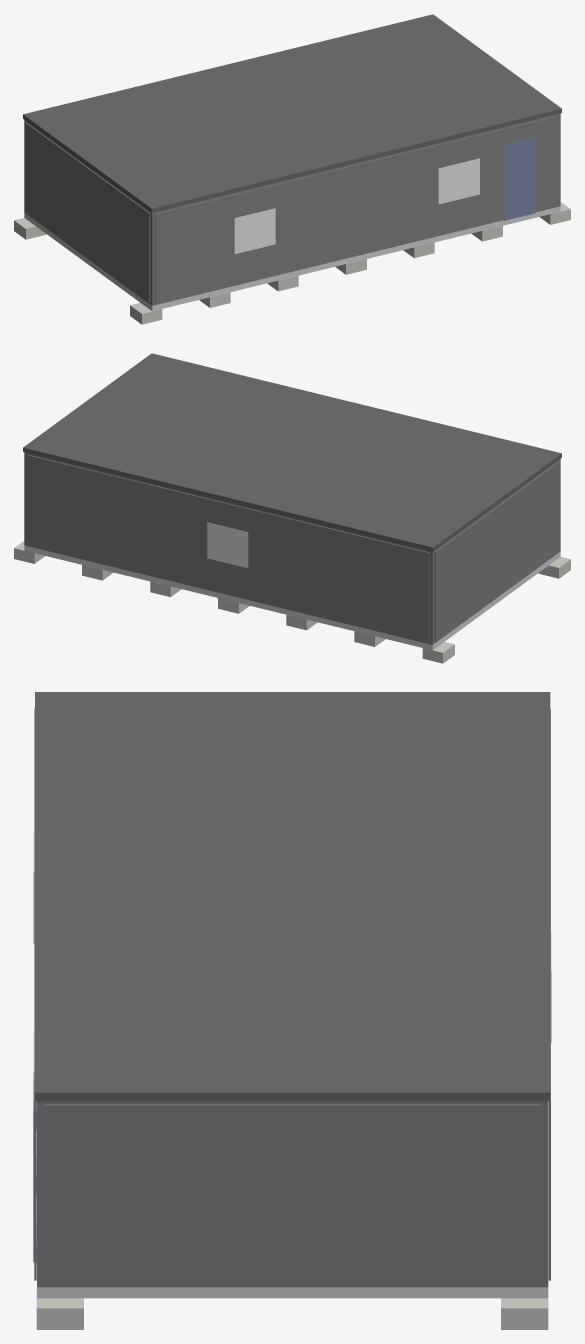
File: Studio-40-Base-CharcoalSilver-LOD2.glb
The picture shows the model from 3 angles, top to bottom: view 1: azimuth 30°, elevation 25°; view 2: azimuth 150°, elevation 25°; view 3: azimuth 270°, elevation 25°; orthographic projection. The views are drawn at different scales.
Parts seen in each view (by area): view 1: RoofMain, ExteriorPanelsStandard, BaseFrame, WindowsStandard, ExteriorShell, FoundationBlocks, EntryDoor; view 2: RoofMain, ExteriorPanelsStandard, BaseFrame, ExteriorShell, FoundationBlocks, WindowsStandard; view 3: RoofMain, ExteriorPanelsStandard, ExteriorShell, BaseFrame, FoundationBlocks.
Boxes of the visible parts, bbox=[...] form: RoofMain: bbox=[23, 14, 561, 212]; ExteriorPanelsStandard: bbox=[25, 115, 557, 303]; BaseFrame: bbox=[24, 206, 560, 311]; WindowsStandard: bbox=[234, 158, 479, 254]; ExteriorShell: bbox=[24, 113, 560, 305]; FoundationBlocks: bbox=[14, 202, 570, 324]; EntryDoor: bbox=[504, 137, 535, 220]; RoofMain: bbox=[23, 353, 561, 551]; ExteriorPanelsStandard: bbox=[27, 454, 559, 642]; BaseFrame: bbox=[24, 545, 560, 650]; ExteriorShell: bbox=[24, 452, 560, 644]; FoundationBlocks: bbox=[14, 541, 570, 663]; WindowsStandard: bbox=[207, 522, 248, 568]; RoofMain: bbox=[35, 692, 550, 1101]; ExteriorPanelsStandard: bbox=[34, 708, 550, 1284]; ExteriorShell: bbox=[37, 1101, 548, 1287]; BaseFrame: bbox=[37, 1287, 548, 1298]; FoundationBlocks: bbox=[36, 1101, 548, 1329].
Size of the model in its own units: 12.49 by 3.17 by 6.53.
